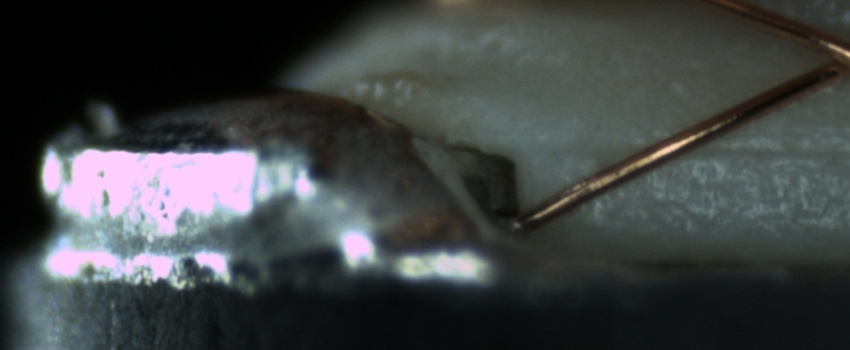CL: (796, 26, 850, 88)
DL: (554, 117, 849, 181)
